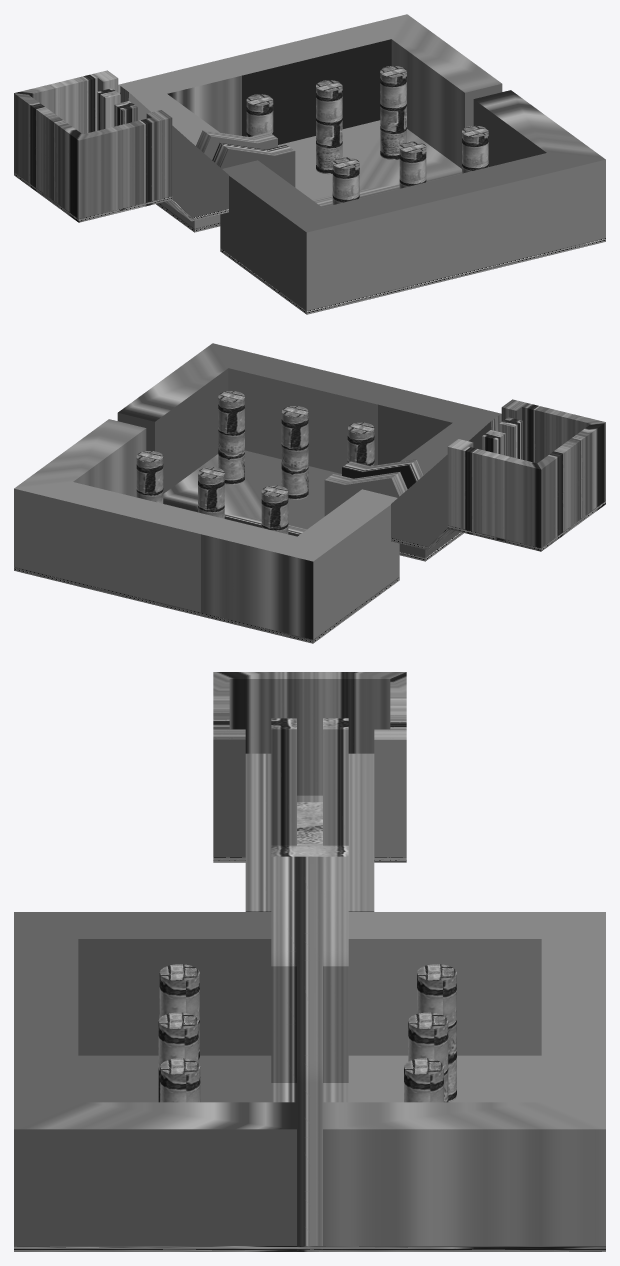
The model's file is stage1.fbx.
3 views of the same model, one above another, from view 1: azimuth 30°, elevation 25°; view 2: azimuth 150°, elevation 25°; view 3: azimuth 270°, elevation 25° (orthographic). The views are drawn at different scales.
Parts seen in each view (by area): view 1: pCube2; view 2: pCube2; view 3: pCube2.
Part boxes in pixels (<box>): pCube2: <box>14,14,605,314</box>; pCube2: <box>14,343,605,643</box>; pCube2: <box>14,672,605,1251</box>.
Bounding box in the file's own units: 1231 × 420 × 920.
